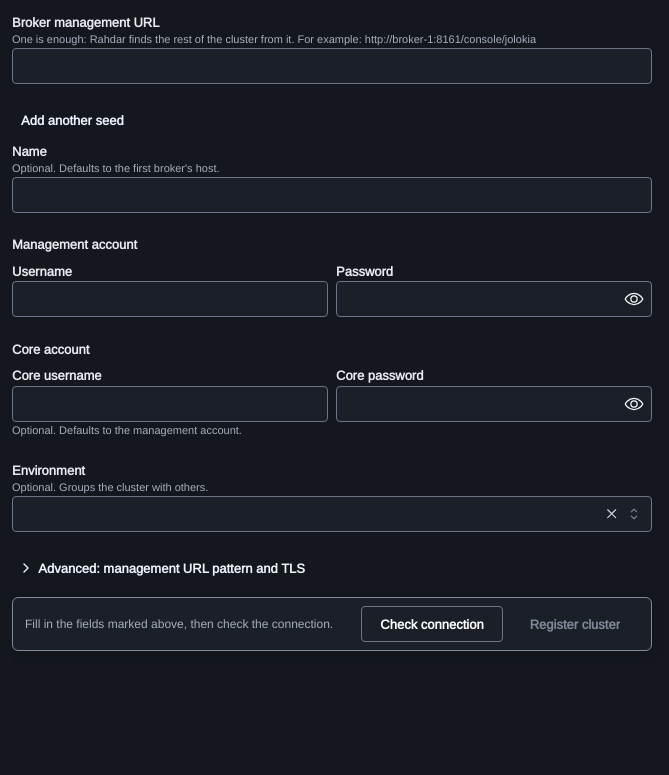
Scenario: RegisterClusterForm › asks for a new check once the URLs are edited after a check
In the field labelled "Broker management URL": (332, 66) x1=12 y1=48 x2=652 y2=84, type "broker-1"
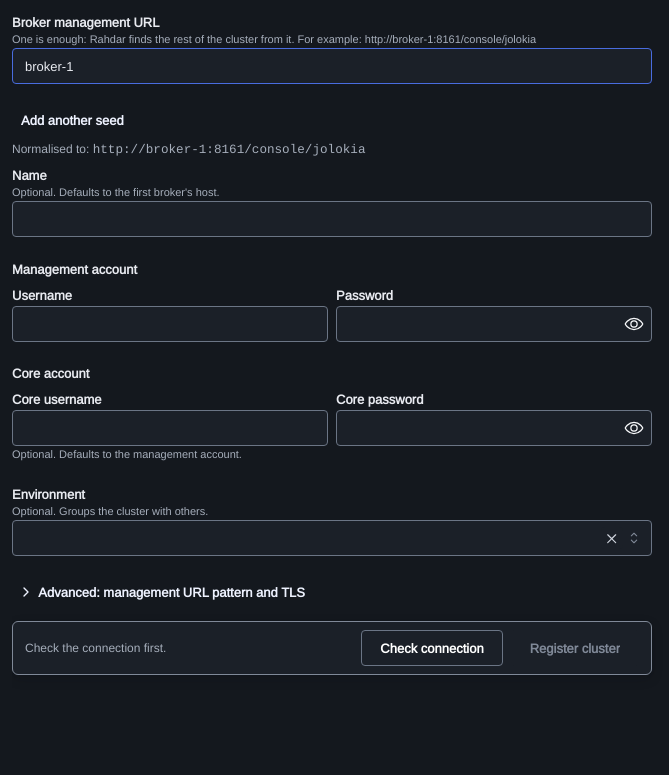
Click the button "Check connection": (432, 648) x1=361 y1=630 x2=503 y2=666
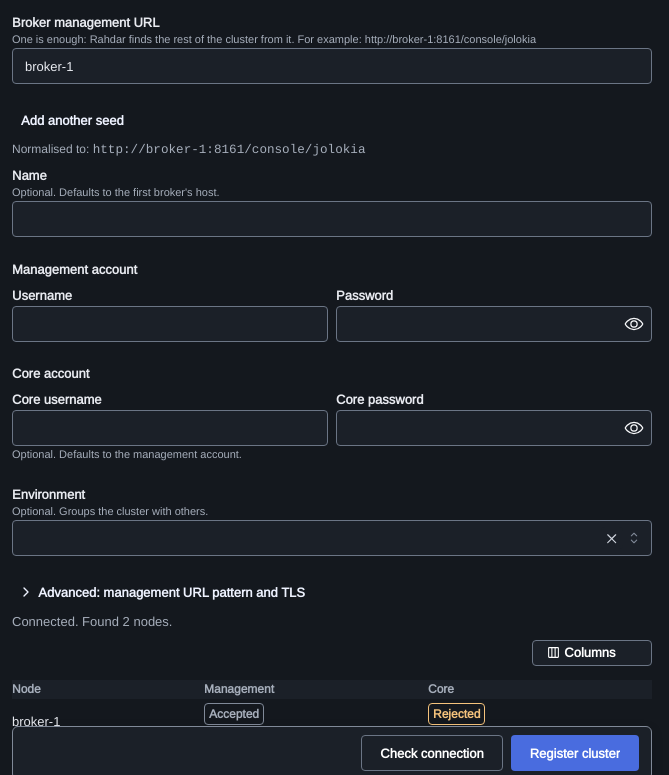
Expected: the text "Connected. Found 2 nodes." is shown, x1=12 y1=614 x2=172 y2=630
Click the button "Add another seed": (72, 120) x1=12 y1=107 x2=133 y2=133
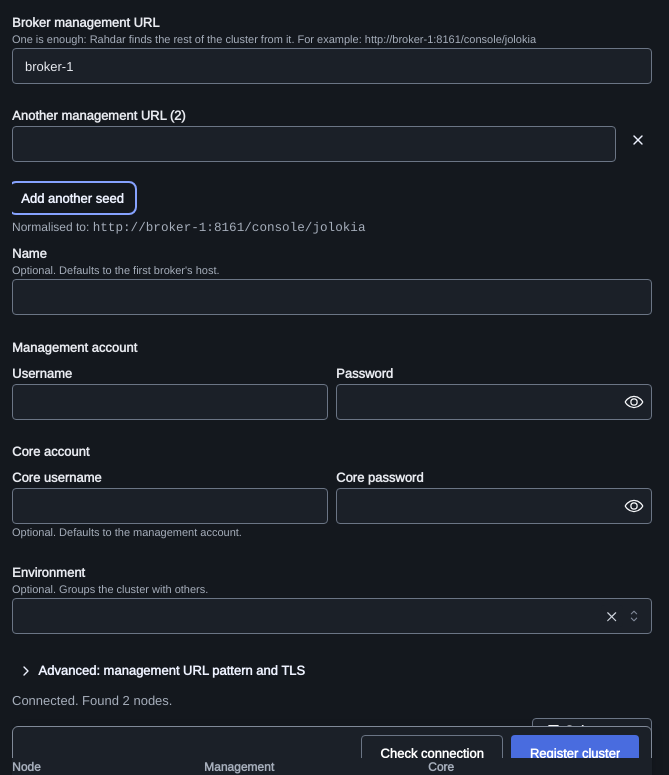
In the field labelled "Another management URL (2)": (314, 144) x1=12 y1=126 x2=616 y2=162, type "broker-2"
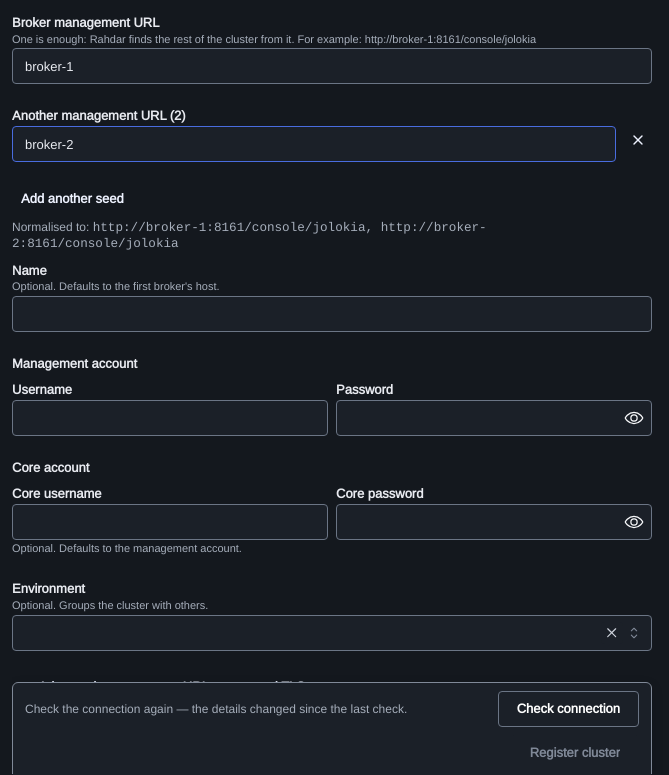
Expected: the text "details changed since the last check" is shown, x1=25 y1=701 x2=407 y2=717
Expected: the button "Register cluster" is disabled, x1=511 y1=735 x2=639 y2=771
